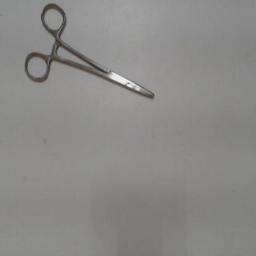Mayo Needle Holder: (20, 1, 160, 105)
